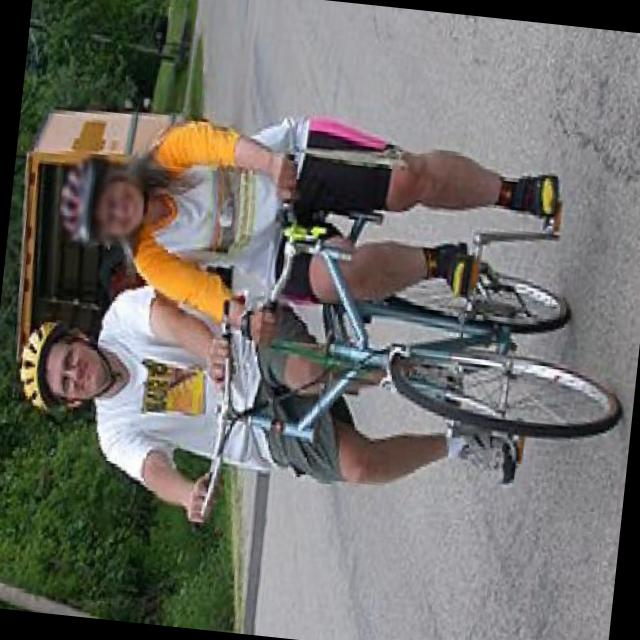With Helmet: (14, 309, 112, 418), (56, 150, 148, 248)
